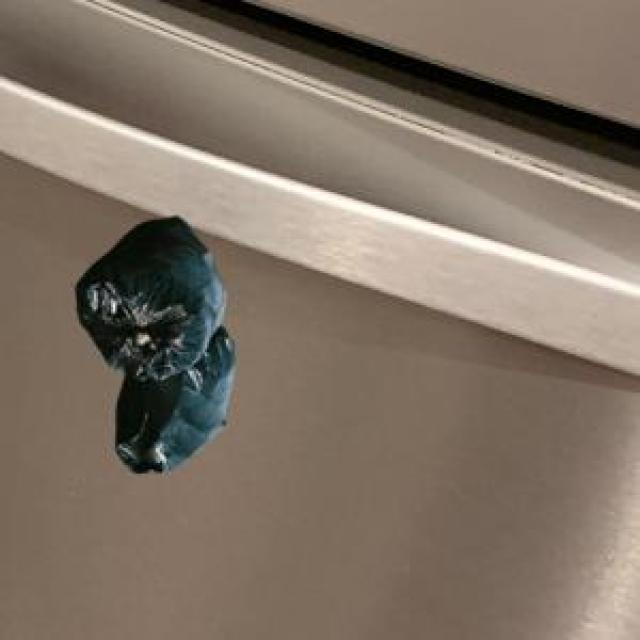miscellaneous trash: (73, 213, 230, 469)
